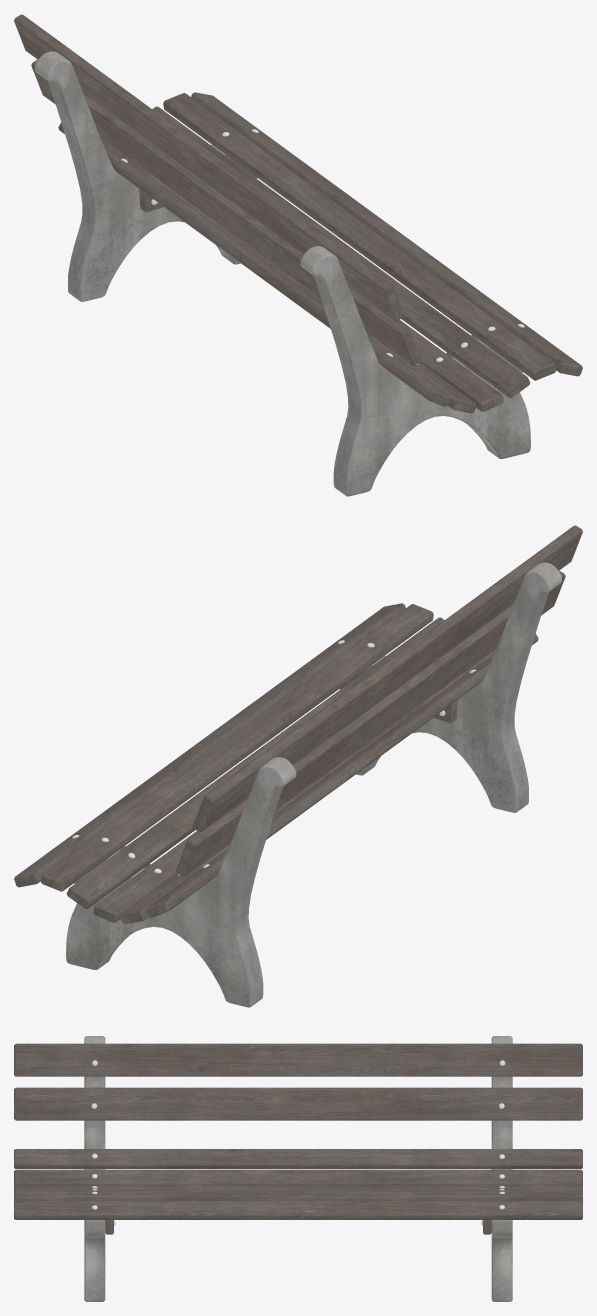
Rendered from banco.glb.
3 views of the same model, one above another, from view 1: azimuth 30°, elevation 25°; view 2: azimuth 150°, elevation 25°; view 3: azimuth 270°, elevation 25° (orthographic). The views are drawn at different scales.
Parts seen in each view (by area): view 1: SM_ParkBench_01a_LOD0; view 2: SM_ParkBench_01a_LOD0; view 3: SM_ParkBench_01a_LOD0.
Boxes of the visible parts, x1,y1,x2,y2 form: SM_ParkBench_01a_LOD0: (14,14,582,496); SM_ParkBench_01a_LOD0: (14,525,582,1007); SM_ParkBench_01a_LOD0: (14,1036,582,1301).
Bounding box in the file's own units: 0.8529 × 0.8957 × 2.44.
1 material, 1 textured.
